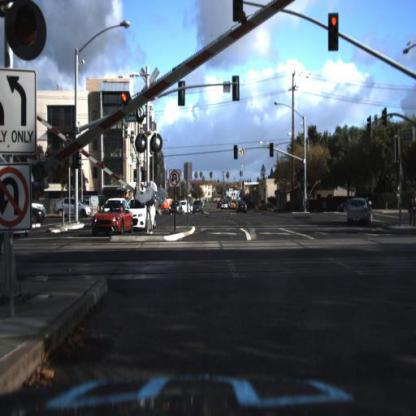car: (93, 200, 135, 236), (346, 190, 377, 237), (51, 197, 93, 223), (130, 201, 160, 232), (340, 195, 370, 213), (24, 207, 47, 226), (236, 194, 252, 221), (30, 209, 45, 231), (168, 201, 183, 217), (192, 199, 206, 216), (179, 199, 190, 220), (32, 202, 49, 215), (221, 195, 229, 218), (168, 199, 180, 214), (230, 199, 237, 217)
pedestrian: (407, 186, 416, 228)
trafficLight: (1, 1, 69, 66), (328, 13, 339, 52), (233, 138, 243, 164), (269, 141, 276, 159)
trafficLight-Green: (299, 165, 307, 186)
trafficLight-Red: (324, 9, 345, 58)
